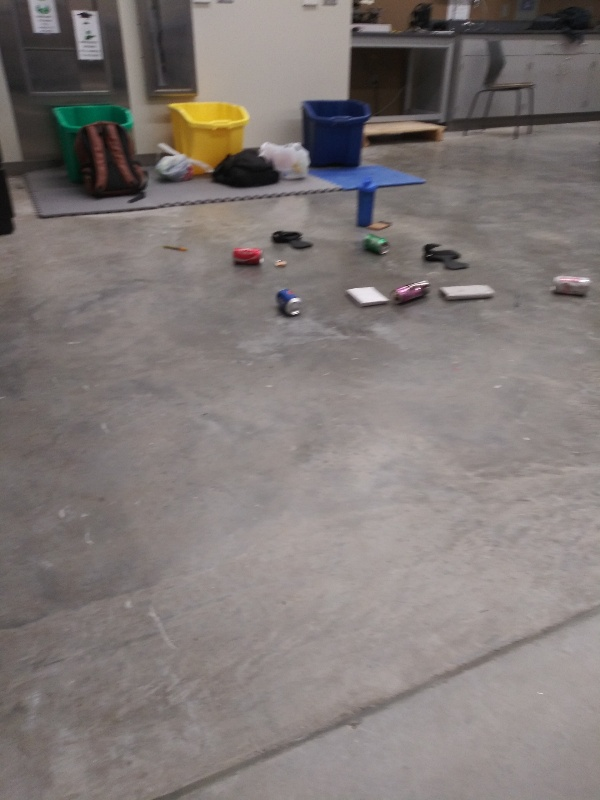can: (391, 276, 431, 306), (546, 273, 594, 297), (273, 286, 305, 319), (358, 232, 391, 257), (231, 245, 266, 268)
